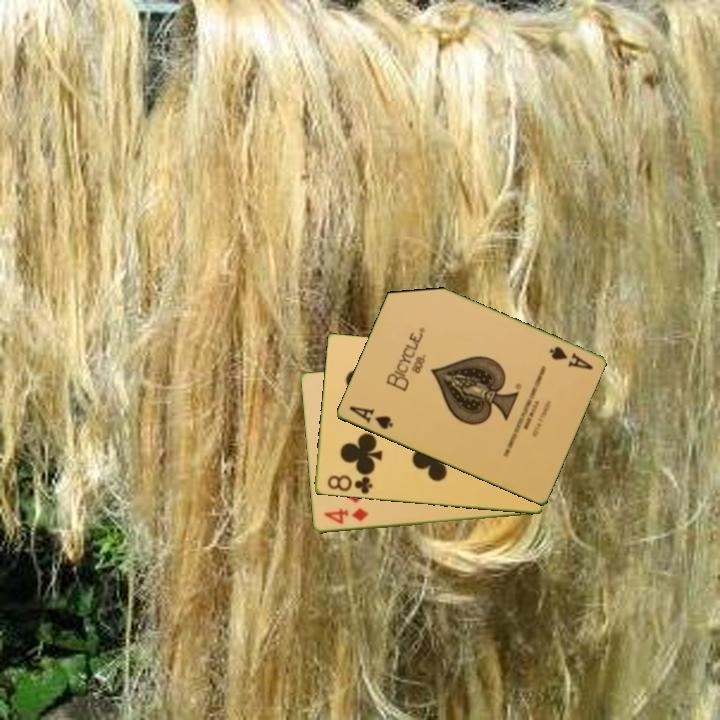4d: (320, 505, 371, 527)
8c: (323, 472, 375, 497)
As: (545, 343, 596, 373), (345, 403, 396, 432)
